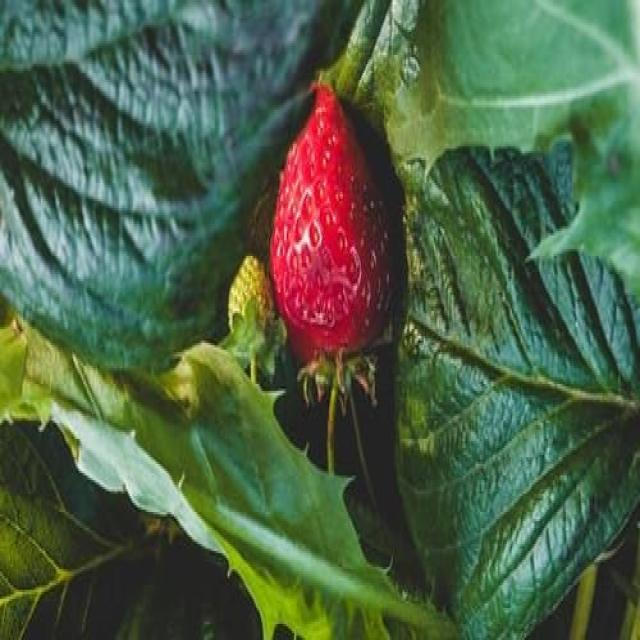immature: (229, 254, 270, 350)
mature: (269, 87, 396, 360)
